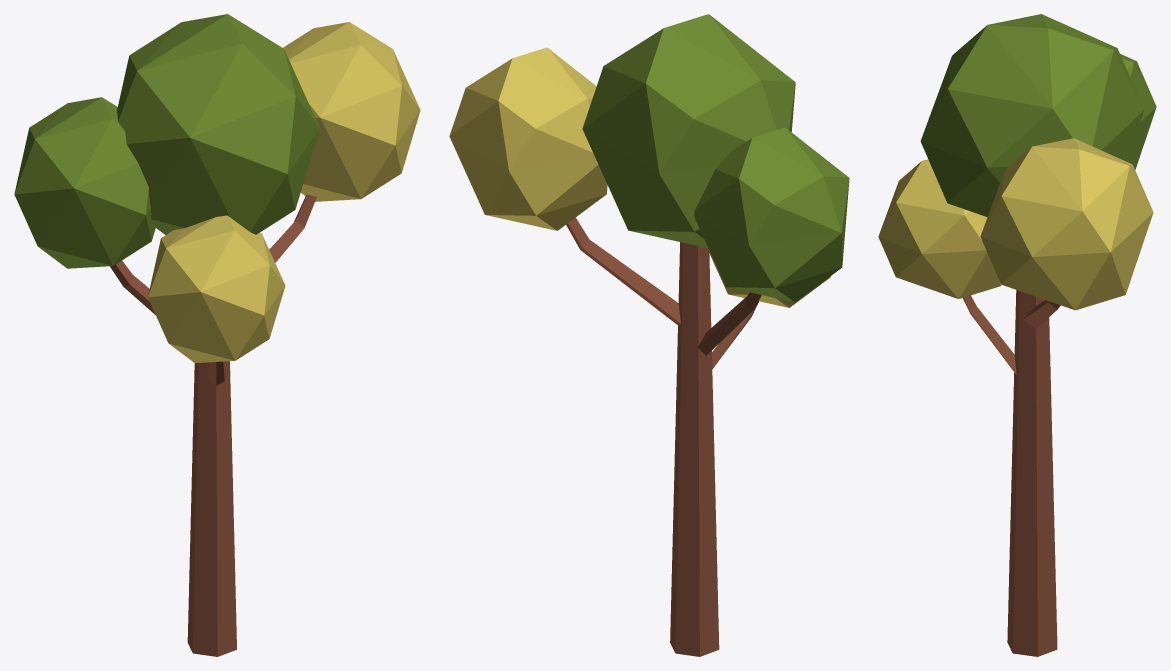
File: Tree_35_autumn_mat.fbx
3 renders of one model, left to right at view 1: azimuth 30°, elevation 25°; view 2: azimuth 150°, elevation 25°; view 3: azimuth 270°, elevation 25°, orthographic.
Parts seen in each view (by area): view 1: Tree_35_autumn_mat; view 2: Tree_35_autumn_mat; view 3: Tree_35_autumn_mat.
Part boxes in pixels (x1,y1,x2,y2): Tree_35_autumn_mat: (14, 14, 420, 656); Tree_35_autumn_mat: (449, 14, 849, 656); Tree_35_autumn_mat: (878, 14, 1156, 656).
Bounding box in the file's own units: 16.91 × 26.34 × 10.56.
